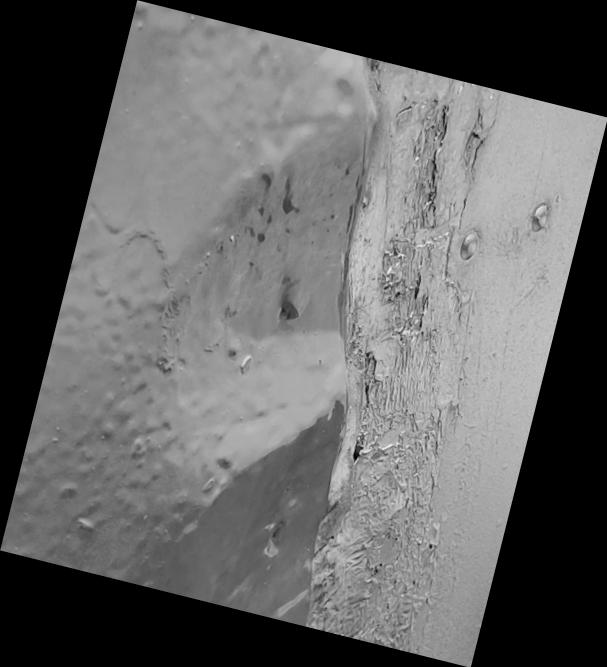dent: (0, 1, 606, 667)
